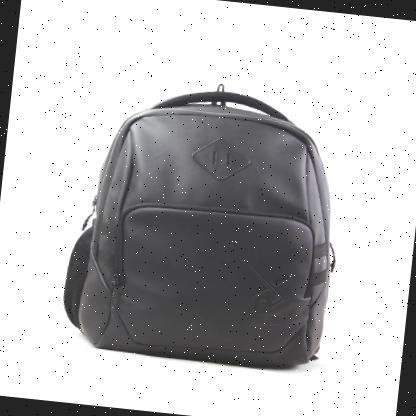bag: (54, 67, 354, 382)
